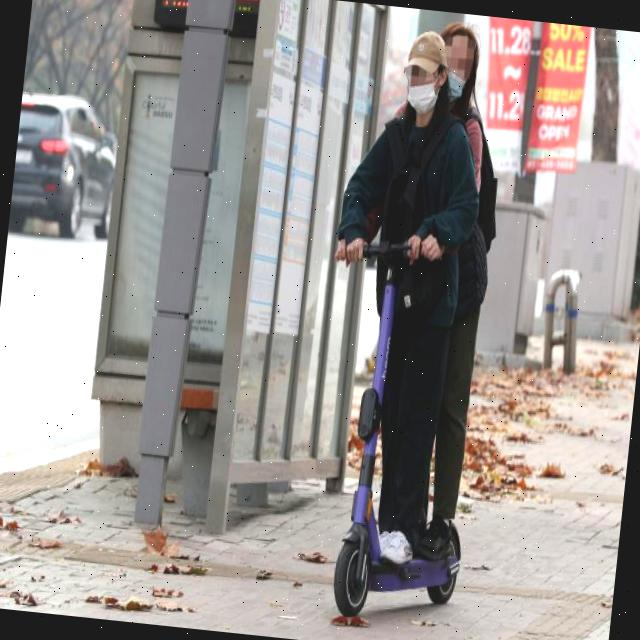bare_head: (395, 25, 449, 125), (435, 20, 480, 106)
human: (348, 25, 459, 566), (389, 23, 497, 562)
kickboard: (321, 515, 478, 614)
